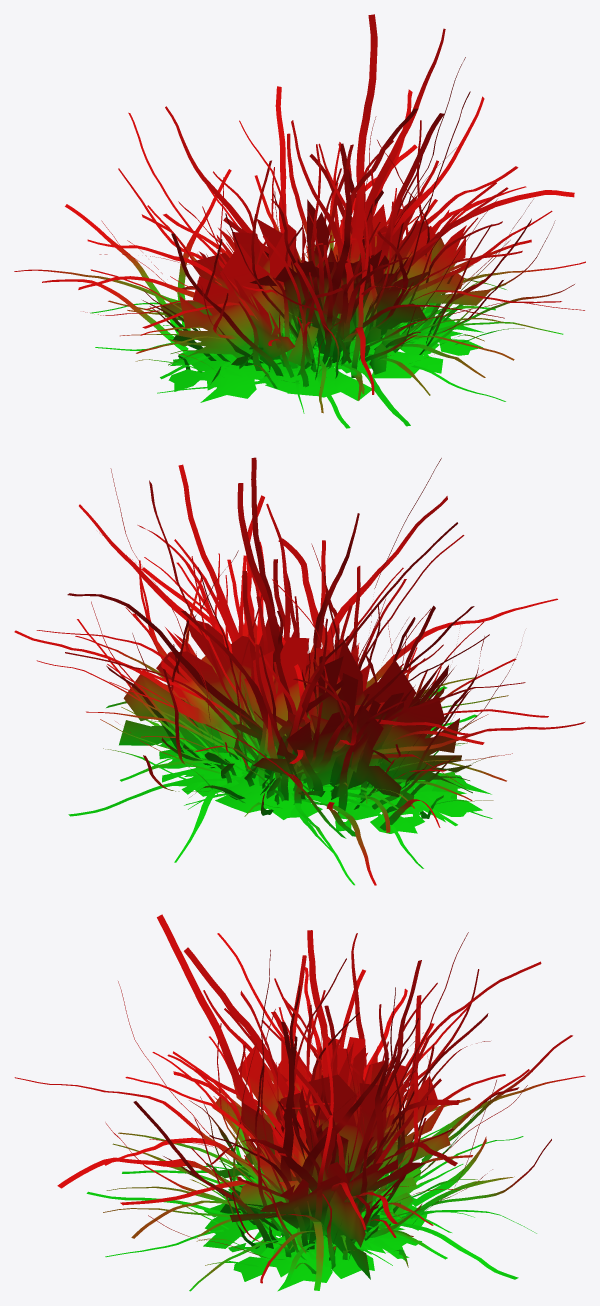
Rendered from Var1_LOD0.fbx.
3 views of the same model, one above another, from view 1: azimuth 30°, elevation 25°; view 2: azimuth 150°, elevation 25°; view 3: azimuth 270°, elevation 25° (orthographic). The views are drawn at different scales.
Visible parts, largest first — view 1: _4xnp_Var1_LOD0; view 2: _4xnp_Var1_LOD0; view 3: _4xnp_Var1_LOD0.
Boxes of the visible parts, <box> form: _4xnp_Var1_LOD0: <box>14,14,585,428</box>; _4xnp_Var1_LOD0: <box>14,457,585,885</box>; _4xnp_Var1_LOD0: <box>14,914,585,1291</box>.
Bounding box in the file's own units: 158 × 90.18 × 149.
